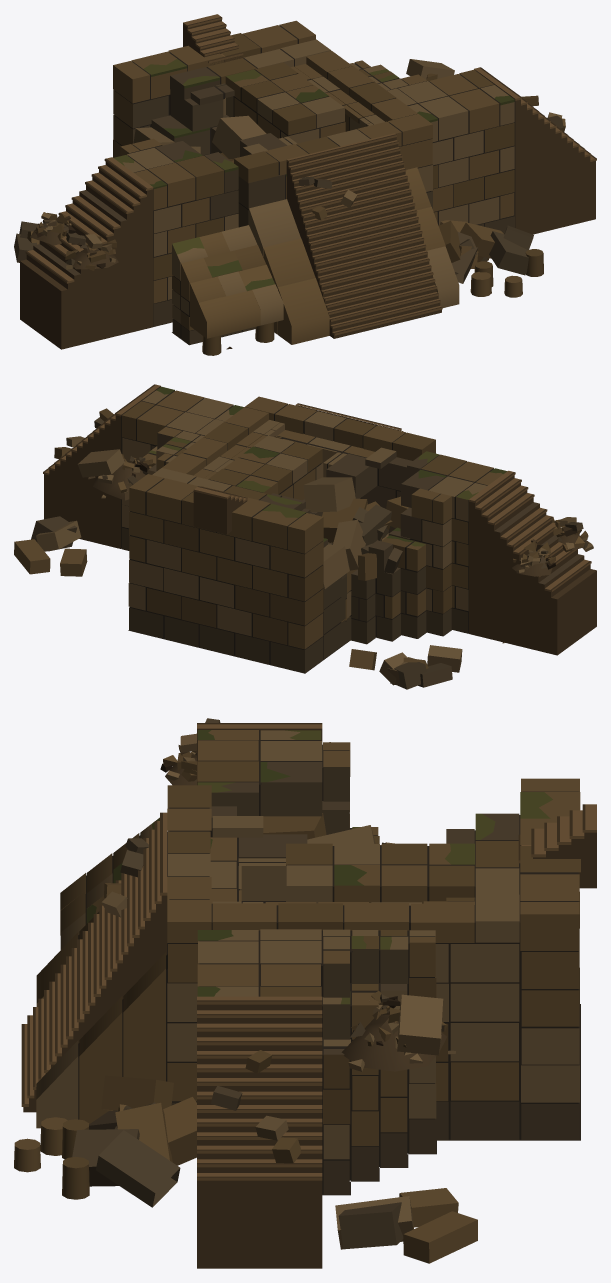
Rendered from ZonRuin16a.glb.
3 views of the same model, one above another, from view 1: azimuth 30°, elevation 25°; view 2: azimuth 150°, elevation 25°; view 3: azimuth 270°, elevation 25° (orthographic). The views are drawn at different scales.
Parts seen in each view (by area): view 1: st_dark; view 2: st_dark; view 3: st_dark.
Boxes of the visible parts, x1,y1,x2,y2 form: st_dark: (14, 14, 596, 355); st_dark: (14, 384, 596, 689); st_dark: (14, 718, 596, 1268).
Size of the model in its own units: 23.24 by 7 by 14.43.
